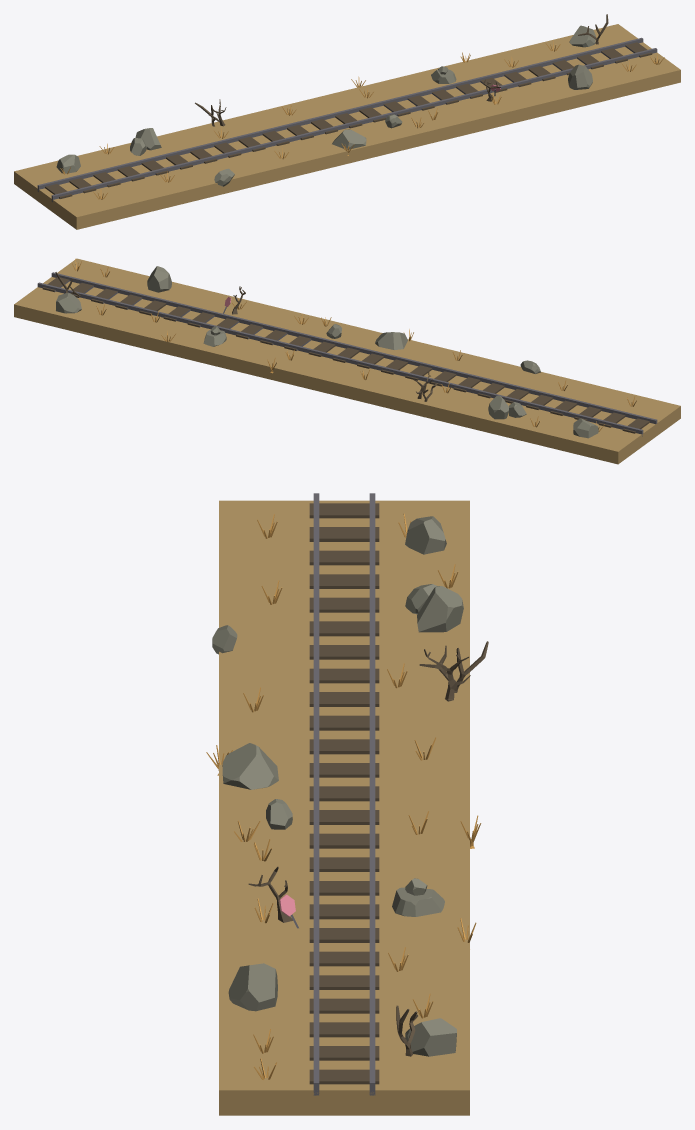
File: Meio-Desolação-2.glb
The picture shows the model from 3 angles, top to bottom: view 1: azimuth 30°, elevation 25°; view 2: azimuth 150°, elevation 25°; view 3: azimuth 270°, elevation 25°; orthographic projection. The views are drawn at different scales.
Visible parts, largest first — view 1: CHAO.002, TRILHO.002, PEDRA.017, PEDRA.018, PEDRA.020, PEDRA.023, PEDRA.022; view 2: CHAO.002, TRILHO.002, PEDRA.017, PEDRA.018, PEDRA.020, PEDRA.022, PEDRA.023; view 3: CHAO.002, TRILHO.002, PEDRA.018, PEDRA.017, PEDRA.022, PEDRA.020, PEDRA.023, PEDRA.014.
Part boxes in pixels (bbox=[...]): CHAO.002: bbox=[14, 24, 680, 229]; TRILHO.002: bbox=[37, 37, 657, 202]; PEDRA.017: bbox=[568, 64, 592, 89]; PEDRA.018: bbox=[332, 129, 366, 149]; PEDRA.020: bbox=[569, 25, 595, 47]; PEDRA.023: bbox=[56, 154, 80, 173]; PEDRA.022: bbox=[135, 128, 161, 150]; CHAO.002: bbox=[14, 258, 680, 464]; TRILHO.002: bbox=[37, 272, 657, 436]; PEDRA.017: bbox=[147, 266, 171, 292]; PEDRA.018: bbox=[375, 332, 407, 349]; PEDRA.020: bbox=[56, 292, 81, 313]; PEDRA.022: bbox=[488, 396, 508, 419]; PEDRA.023: bbox=[573, 418, 598, 438]; CHAO.002: bbox=[219, 500, 469, 1115]; TRILHO.002: bbox=[309, 493, 379, 1095]; PEDRA.018: bbox=[222, 743, 278, 789]; PEDRA.017: bbox=[228, 963, 277, 1011]; PEDRA.022: bbox=[417, 586, 463, 632]; PEDRA.020: bbox=[405, 1018, 456, 1056]; PEDRA.023: bbox=[405, 516, 446, 554]; PEDRA.014: bbox=[392, 887, 444, 916].
Size of the model in its own units: 50 by 3.38 by 10.12.
